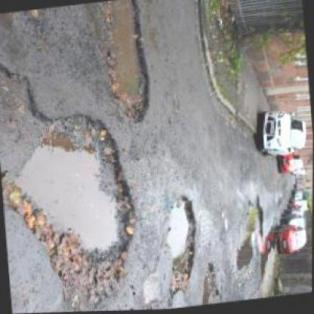Hueco: (0, 103, 148, 313), (97, 0, 154, 128), (157, 194, 204, 300), (242, 196, 266, 242), (230, 238, 259, 274)
